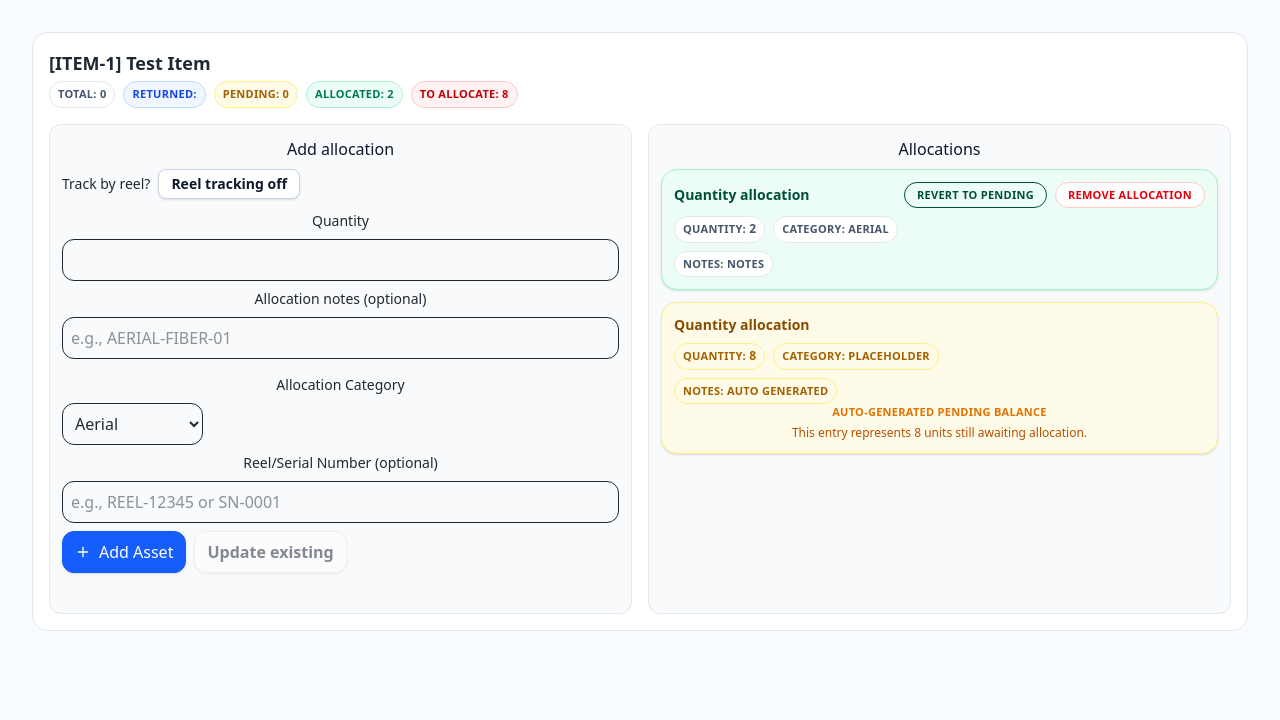
Test: update existing shows a confirmation message
Click the button "Quantity allocation": click(742, 194) [661,168,1218,290]
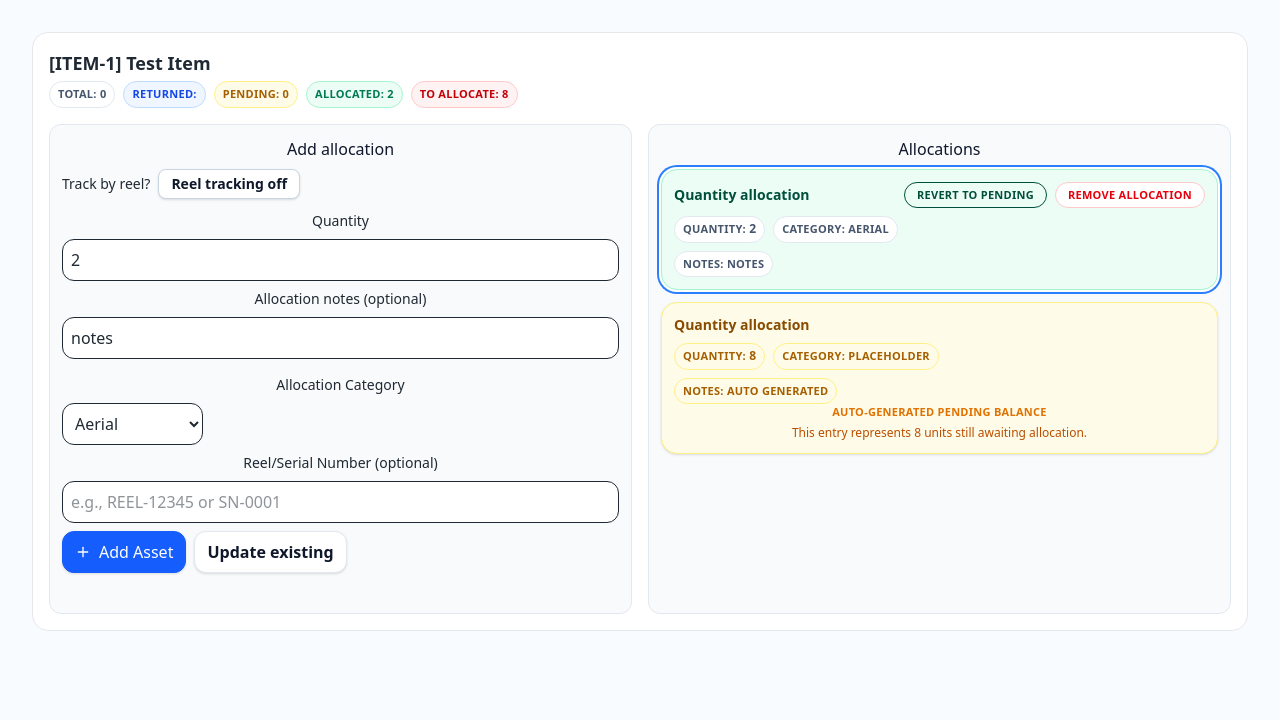
Replace the text in the number field with "4": (340, 260) [62,238,619,280]
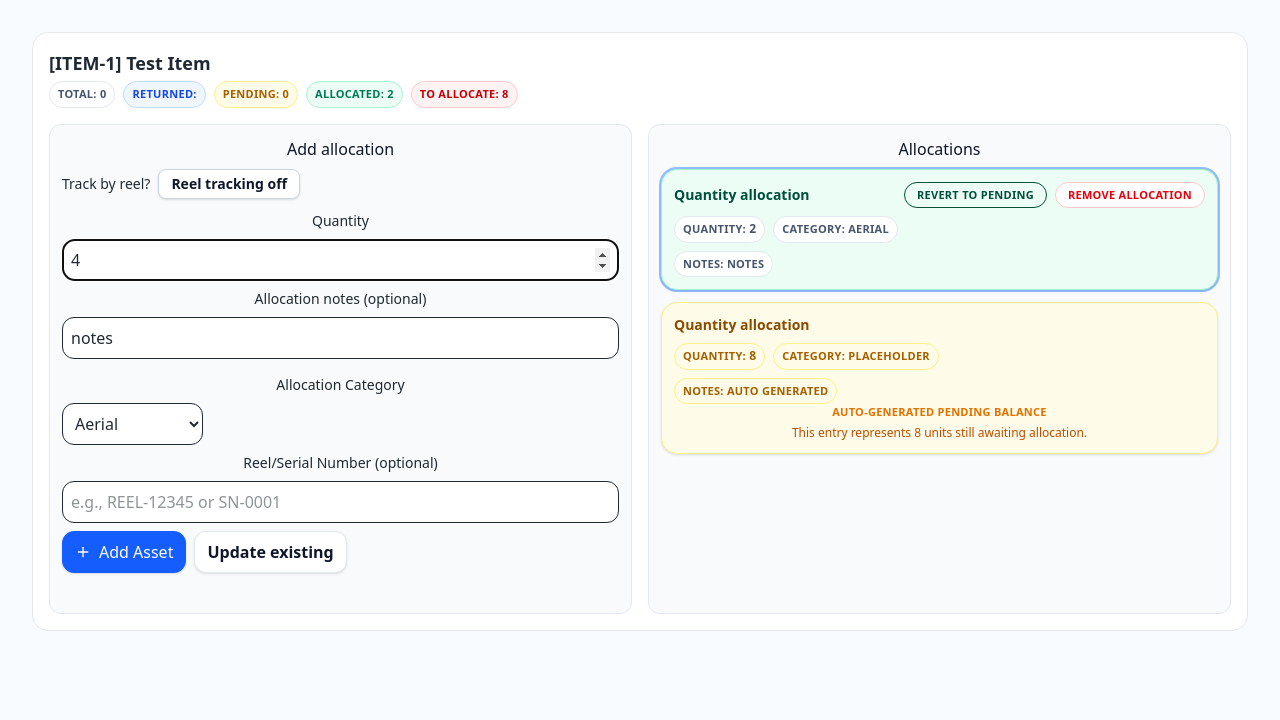
Click the button with aria-label "update selected asset": click(271, 552) [194,530,347,572]
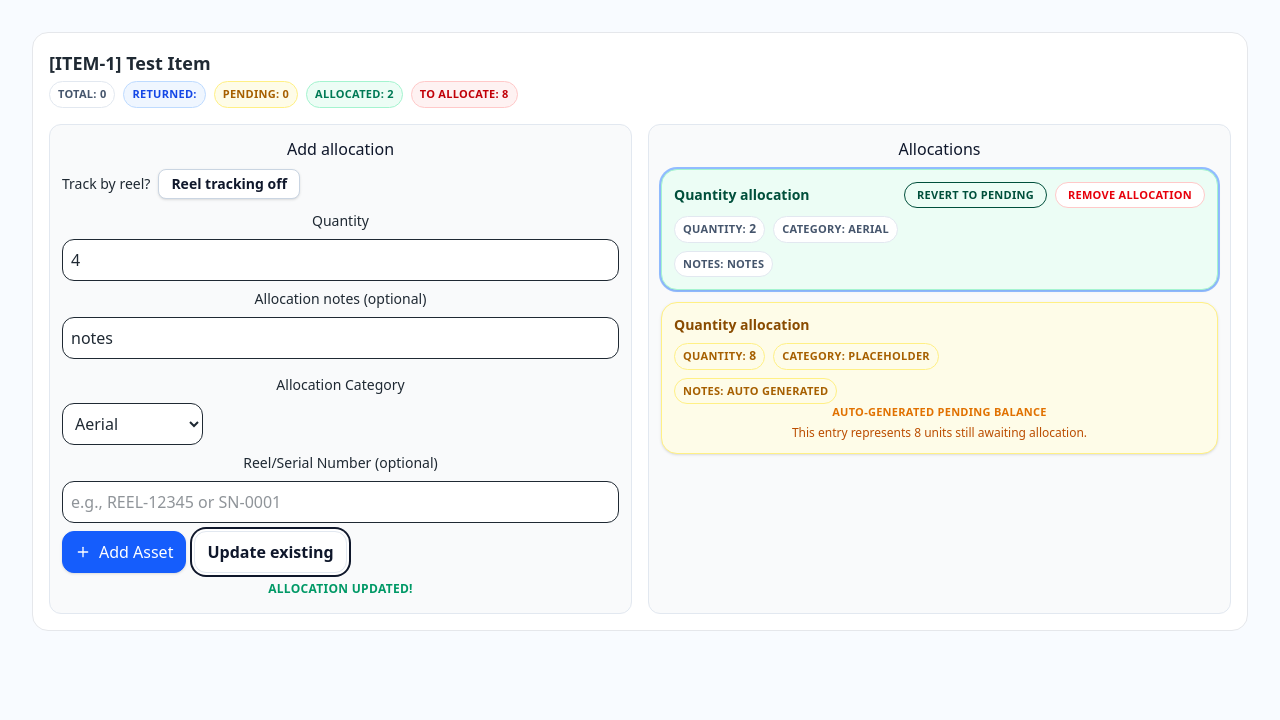
Check: the text "Allocation updated!" is shown, box [268,580,413,596]
